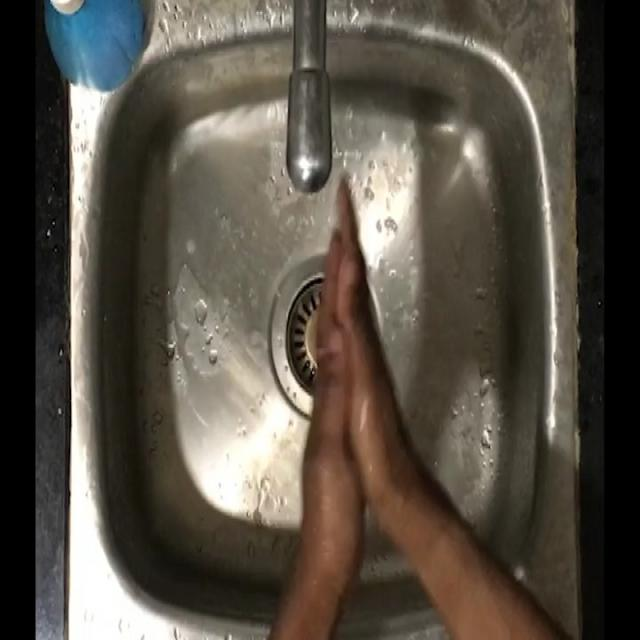step_1: (284, 160, 416, 533)
